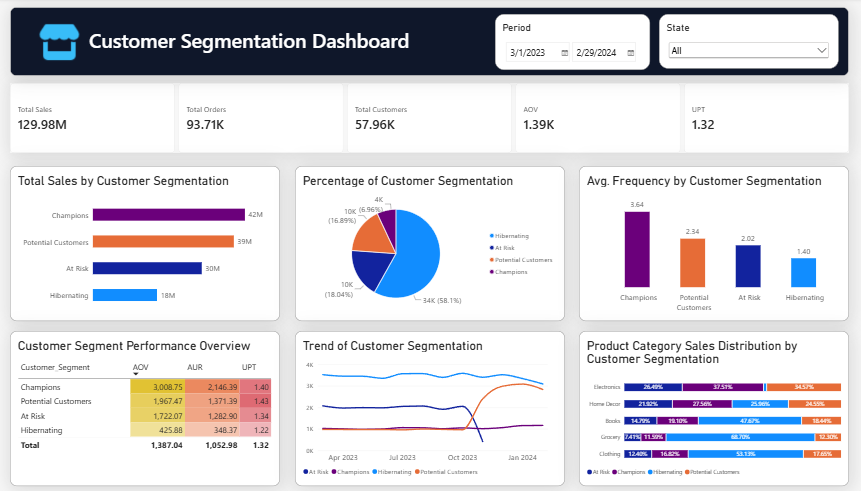

This screenshot's page, from the dashboard's own definition file:
{"tool":"powerbi","page":{"name":"Customer Segmentation","canvas":[1920,1080],"ordinal":0},"visuals":[{"type":"cardVisual","title":"Social Media Funnel","fields":{"Data":["Measure.Total Sales","Measure.Total Orders","Measure.Total Customers","Measure.AOV","Measure.UPT"]},"box":[51.8,183.6,1812.2,151.2],"z":0},{"type":"barChart","title":"Total Sales by Customer Segmentation","fields":{"Y":["Measure.Total Sales"],"Category":["data_usa (6).Customer_Segment"]},"box":[51.8,362.9,583.2,334.8],"z":1000},{"type":"pieChart","title":"Percentage of Customer Segmentation","fields":{"Category":["data_usa (6).Customer_Segment"],"Y":["Measure.Total Customers"]},"box":[667.4,362.9,583.2,334.8],"z":2000},{"type":"clusteredColumnChart","title":"Avg. Frequency by Customer Segmentation","fields":{"Category":["data_usa (6).Customer_Segment"],"Y":["Avg(data_usa (6).Frequency)"]},"box":[1280.9,362.9,583.2,334.8],"z":3000},{"type":"tableEx","title":"Customer Segment Performance Overview","fields":{"Values":["data_usa (6).Customer_Segment","Measure.AOV","Measure.AUR","Measure.UPT"]},"box":[51.8,719.3,583.2,334.8],"z":4000},{"type":"lineChart","title":"Trend of Customer Segmentation","fields":{"Category":["data_usa (6).Date.Variation.Date Hierarchy.Year","data_usa (6).Date.Variation.Date Hierarchy.Month"],"Y":["Divide(Measure.Total Customers, ScopedEval(Measure.Total Customers, []))"],"Series":["data_usa (6).Customer_Segment"]},"box":[667.4,719.3,583.2,334.8],"z":5000},{"type":"shape","box":[51.8,19.4,1812.2,149],"z":6000},{"type":"textbox","box":[222.5,62.6,1006.6,64.8],"z":7000},{"type":"slicer","title":"Period","fields":{"Values":["data_usa (6).Date"]},"box":[1098.6,33.8,335.1,120.9],"z":8000},{"type":"slicer","title":"State","fields":{"Values":["data_usa (6).State"]},"box":[1453.9,33.8,388,118.4],"z":9000},{"type":"image","box":[112.3,51.8,92.9,86.4],"z":10000},{"type":"hundredPercentStackedBarChart","title":"Product Category Sales Distribution by Customer Segmentation","fields":{"Category":["data_usa (6).Product_Category"],"Y":["Measure.Total Sales"],"Series":["data_usa (6).Customer_Segment"]},"box":[1280.9,719.3,583.2,334.8],"z":11000}]}

Visuals, with their boxes in screenshot pixels (x1, y1, x2, y2), scaled from the page's 1920x1080 canvas onto the 861x491 screenshot:
"Social Media Funnel" cardVisual: x1=23, y1=83, x2=836, y2=152
"Total Sales by Customer Segmentation" barChart: x1=23, y1=165, x2=285, y2=317
"Percentage of Customer Segmentation" pieChart: x1=299, y1=165, x2=561, y2=317
"Avg. Frequency by Customer Segmentation" clusteredColumnChart: x1=574, y1=165, x2=836, y2=317
"Customer Segment Performance Overview" tableEx: x1=23, y1=327, x2=285, y2=479
"Trend of Customer Segmentation" lineChart: x1=299, y1=327, x2=561, y2=479
shape: x1=23, y1=9, x2=836, y2=77
textbox: x1=100, y1=28, x2=551, y2=58
"Period" slicer: x1=493, y1=15, x2=643, y2=70
"State" slicer: x1=652, y1=15, x2=826, y2=69
image: x1=50, y1=24, x2=92, y2=63
"Product Category Sales Distribution by Customer Segmentation" hundredPercentStackedBarChart: x1=574, y1=327, x2=836, y2=479
